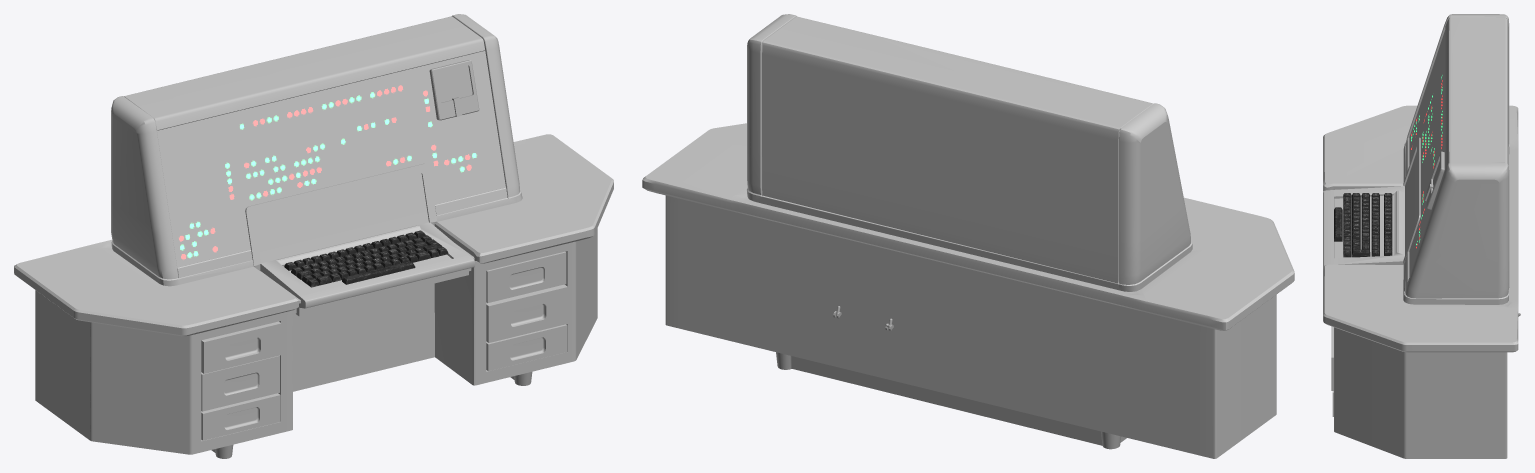
Rendered from Computer.fbx.
The picture shows the model from 3 angles, left to right: view 1: azimuth 30°, elevation 25°; view 2: azimuth 150°, elevation 25°; view 3: azimuth 270°, elevation 25°; orthographic projection. The views are drawn at different scales.
Parts seen in each view (by area): view 1: computer, keyboard, Meter_panel; view 2: computer, Legs; view 3: computer, keyboard, Meter_panel.
Part boxes in pixels (x1,y1,x2,y2): computer: (14, 14, 613, 454); keyboard: (284, 230, 448, 287); Meter_panel: (429, 60, 479, 120); computer: (642, 14, 1294, 458); Legs: (776, 352, 1126, 449); computer: (1323, 14, 1518, 458); keyboard: (1334, 193, 1392, 257); Meter_panel: (1425, 151, 1444, 209).
Bounding box in the file's own units: 623 × 334 × 219.
